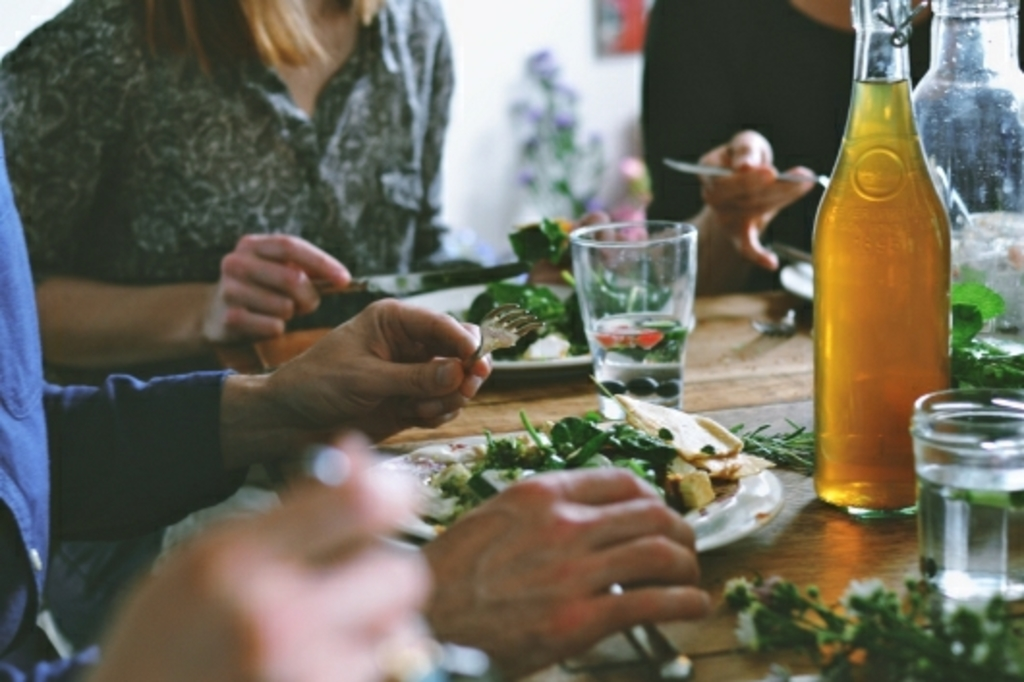Beer: (803, 71, 958, 511)
